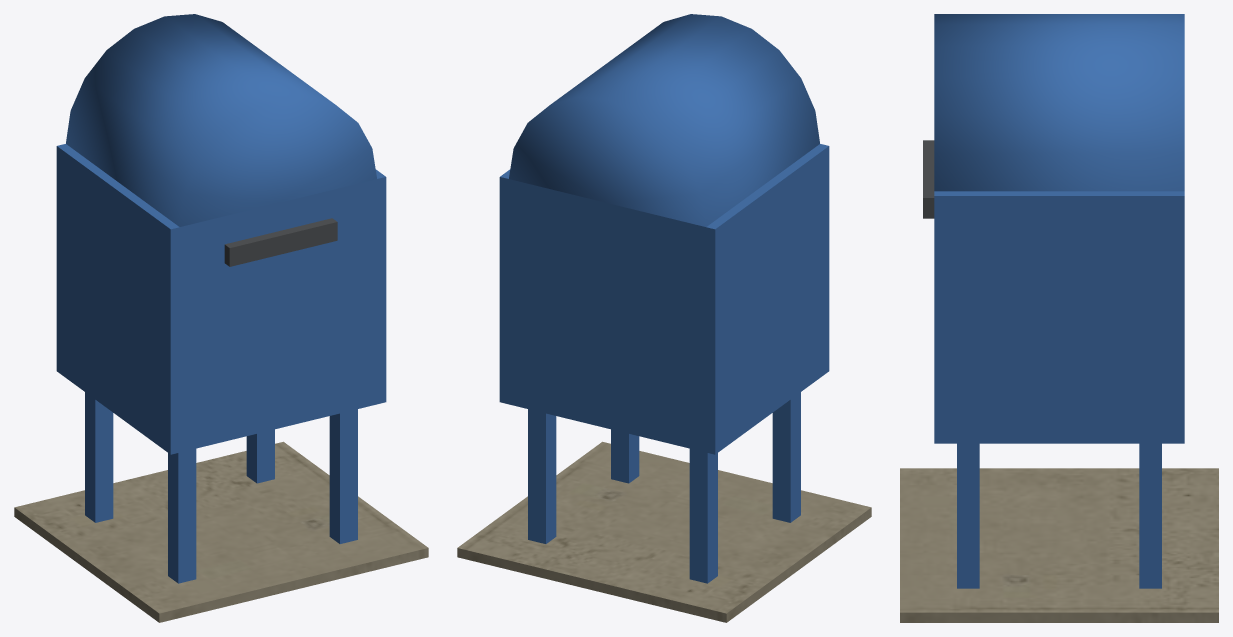
The model's file is mailbox.glb.
3 renders of one model, left to right at view 1: azimuth 30°, elevation 25°; view 2: azimuth 150°, elevation 25°; view 3: azimuth 270°, elevation 25°, orthographic. The views are drawn at different scales.
Parts seen in each view (by area): view 1: mailbox_body; view 2: mailbox_body; view 3: mailbox_body.
Boxes of the visible parts, x1,y1,x2,y2 form: mailbox_body: (14, 14, 428, 622); mailbox_body: (457, 14, 871, 622); mailbox_body: (900, 14, 1218, 622).
Bounding box in the file's own units: 0.03 × 0.051 × 0.028.
Materials: 3 (1 with a texture image).
